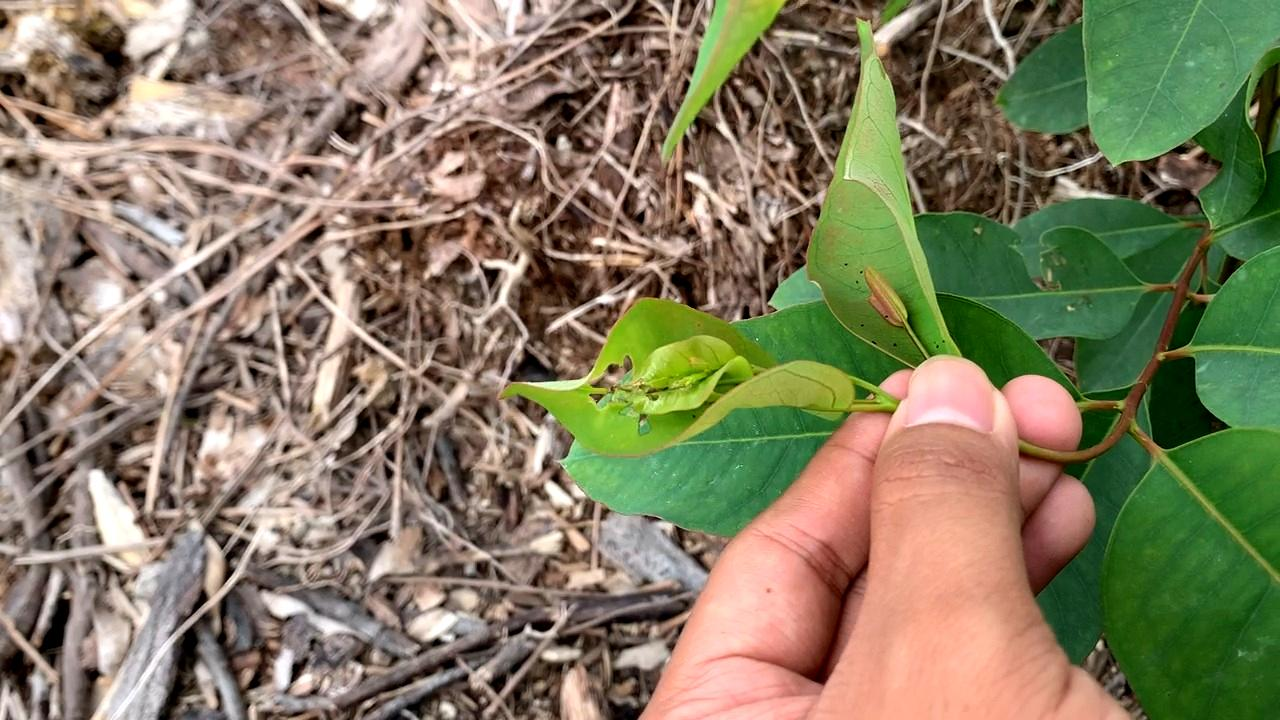Leaf Roller - Leaf: (500, 295, 852, 460)
